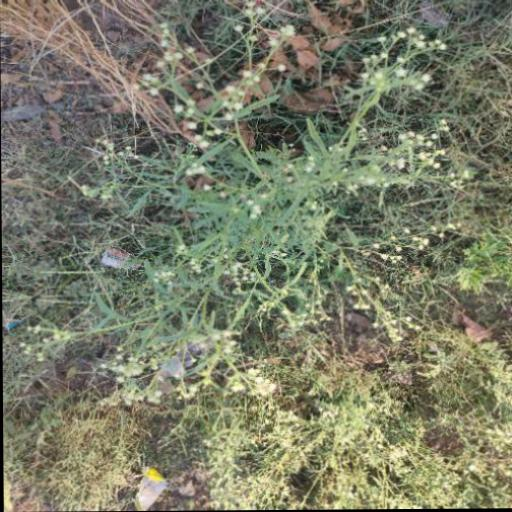weed: (108, 61, 432, 435)
